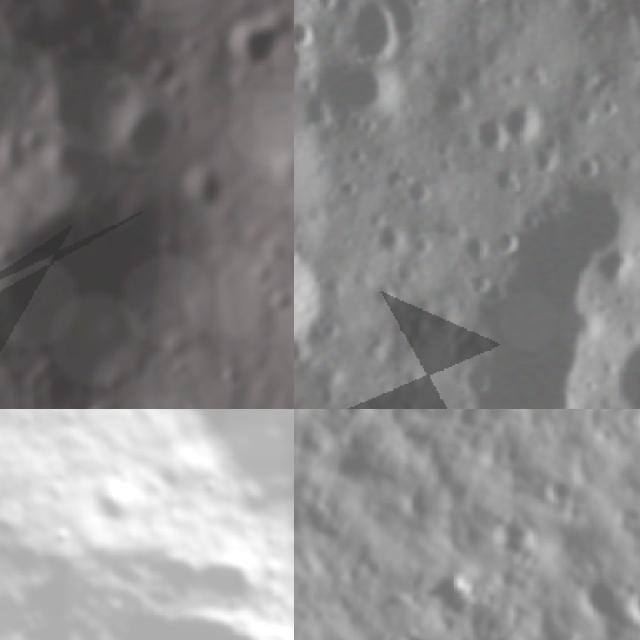crater: (52, 543, 294, 640), (316, 49, 418, 134), (320, 0, 413, 72), (80, 471, 158, 551), (294, 219, 334, 345), (494, 84, 560, 150), (413, 66, 477, 128), (116, 96, 166, 163), (576, 568, 634, 625), (229, 11, 286, 68), (487, 506, 541, 564), (466, 107, 518, 164), (482, 154, 536, 206), (606, 327, 640, 409), (590, 237, 640, 288), (560, 47, 613, 95), (524, 132, 570, 180), (371, 212, 416, 260), (454, 223, 499, 269), (92, 0, 149, 36), (361, 270, 404, 313), (460, 354, 499, 400), (294, 20, 316, 94), (457, 260, 497, 298), (190, 170, 230, 207), (570, 143, 610, 179), (403, 173, 442, 209), (568, 96, 605, 132), (0, 128, 26, 177), (562, 0, 614, 24), (594, 86, 628, 122), (294, 325, 317, 374), (492, 224, 524, 259), (344, 138, 376, 172), (294, 7, 317, 54), (621, 576, 640, 627), (386, 625, 443, 640), (294, 491, 311, 540), (460, 0, 501, 15), (323, 629, 360, 640)
